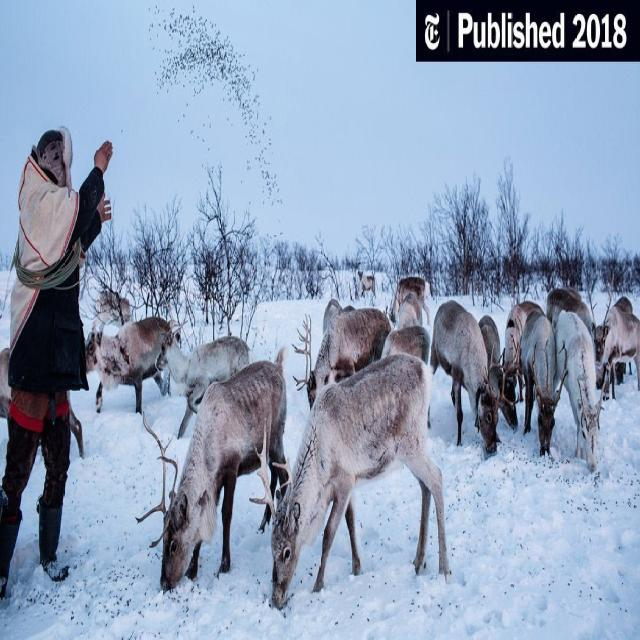Reindeer: (252, 356, 452, 616), (152, 358, 292, 601), (428, 286, 507, 451), (499, 288, 562, 462), (549, 296, 607, 462)
